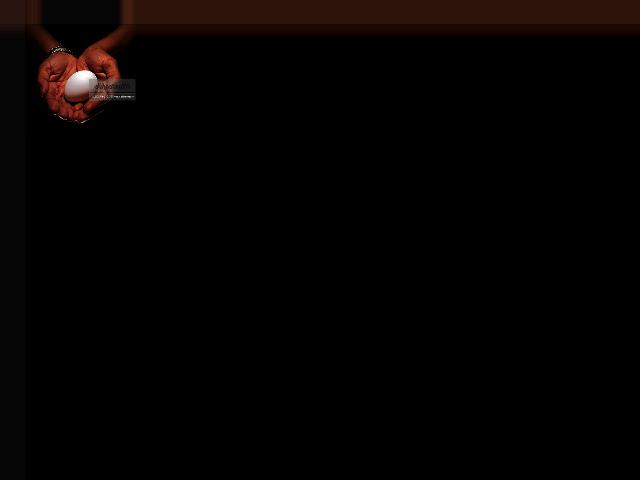egg: (63, 71, 96, 103)
